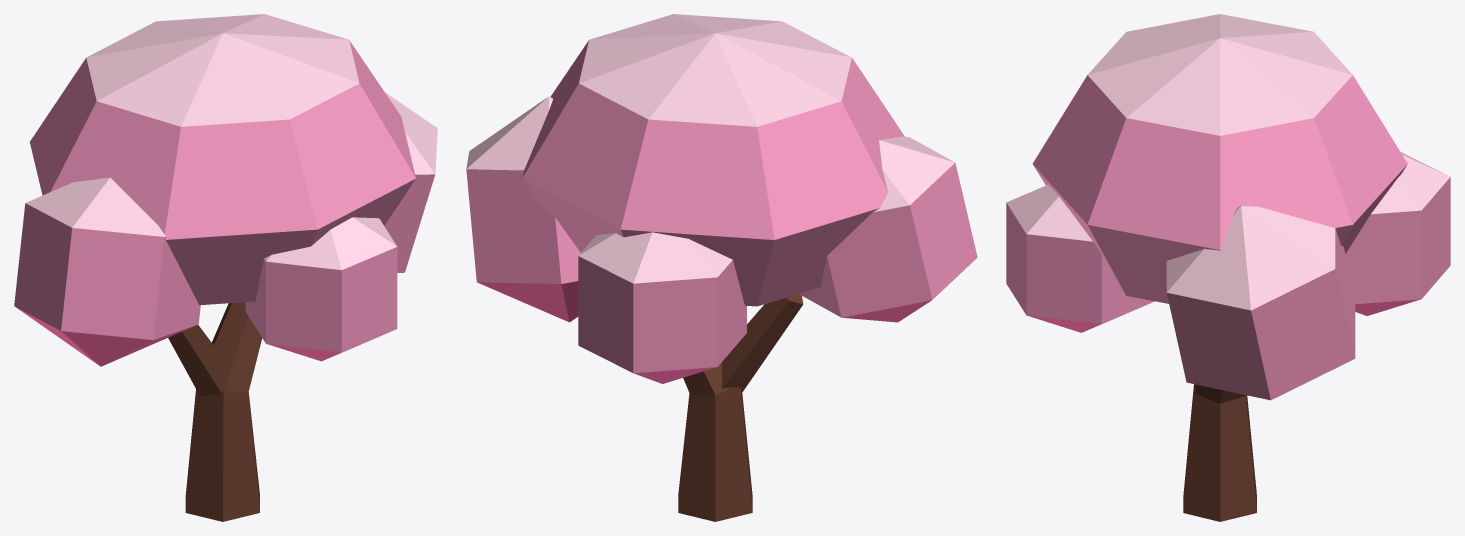
The model's file is tree_sakura.glb.
3 views of the same model, side by side, from view 1: azimuth 30°, elevation 25°; view 2: azimuth 150°, elevation 25°; view 3: azimuth 270°, elevation 25° (orthographic).
Visible parts, largest first — view 1: tree_sakura; view 2: tree_sakura; view 3: tree_sakura.
Boxes of the visible parts, left/top/right/bottom form: tree_sakura: left=14, top=14, right=437, bottom=521; tree_sakura: left=466, top=14, right=977, bottom=521; tree_sakura: left=1006, top=14, right=1450, bottom=521.
Bounding box in the file's own units: 0.6901 × 0.7 × 0.6048.
